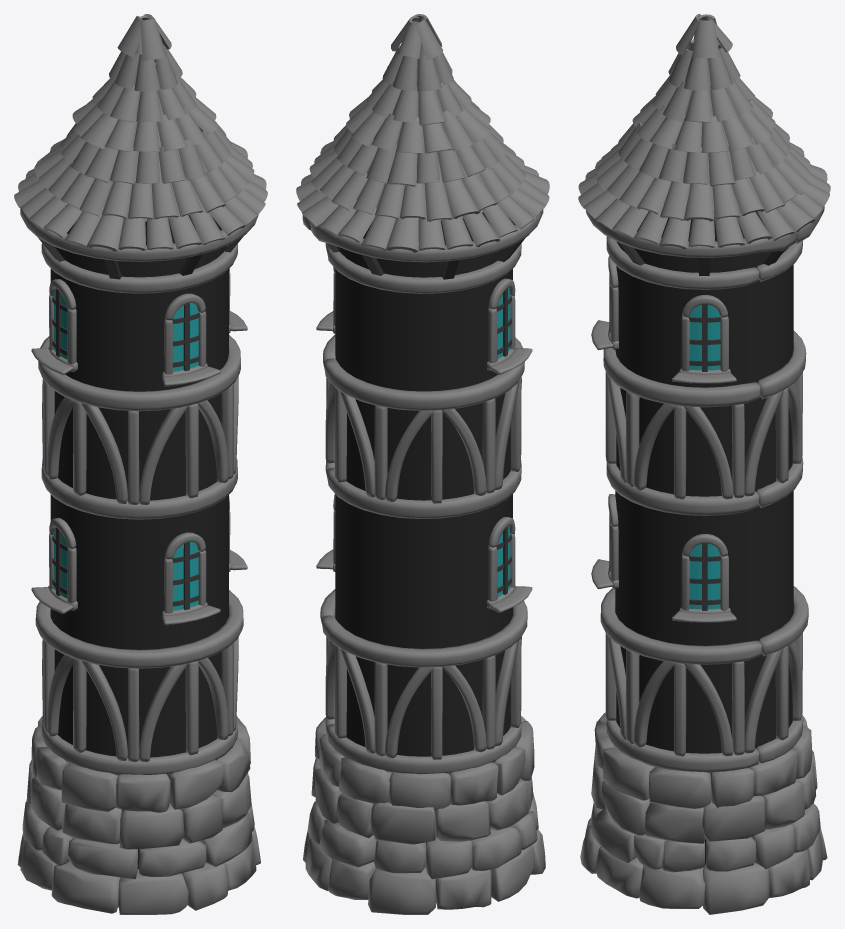
The model's file is SM_tower_01.fbx.
3 views of the same model, side by side, from view 1: azimuth 30°, elevation 25°; view 2: azimuth 150°, elevation 25°; view 3: azimuth 270°, elevation 25° (orthographic).
Parts seen in each view (by area): view 1: Object342722; view 2: Object342722; view 3: Object342722.
Part boxes in pixels (x1,y1,x2,y2): Object342722: (14, 14, 267, 914); Object342722: (296, 14, 549, 914); Object342722: (578, 14, 830, 914).
Size of the model in its own units: 140 by 523 by 141.
